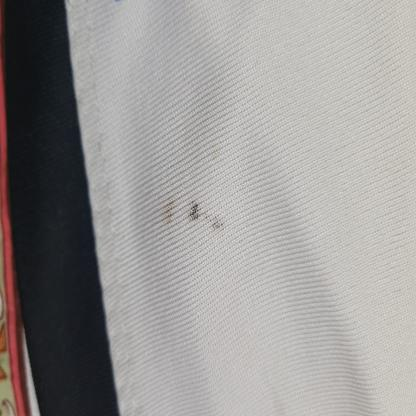spot: (174, 164, 227, 235), (160, 190, 228, 234), (165, 197, 225, 234), (188, 174, 204, 232), (211, 174, 226, 234), (190, 132, 198, 229)
